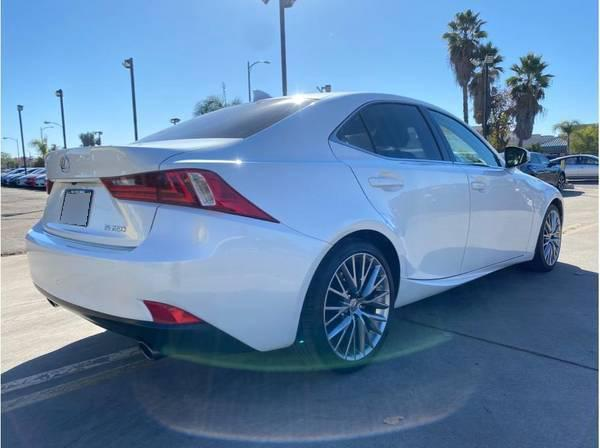Front_Fender: (522, 170, 565, 258)
Front_Right_Door: (460, 167, 537, 288)
Front_Right_Window: (432, 107, 514, 173)
Rear_Bumper: (22, 206, 329, 367)
Rear_Fender: (161, 134, 375, 241)
Rear_Right_Door: (334, 142, 471, 306)
Rear_Right_Window: (331, 102, 457, 163)
Rear_Windshield: (135, 96, 320, 144)
Right_Taillight: (96, 169, 274, 224)
Roof: (253, 88, 511, 165)
Tailgate: (40, 140, 230, 248)
Wheel: (304, 237, 399, 372), (540, 207, 569, 269)
